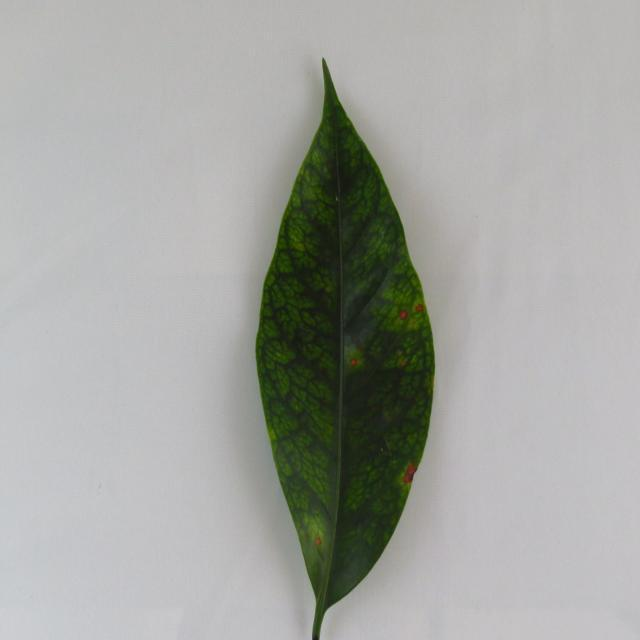DeficienciaNutricional-Manganeso: (256, 60, 435, 638)
